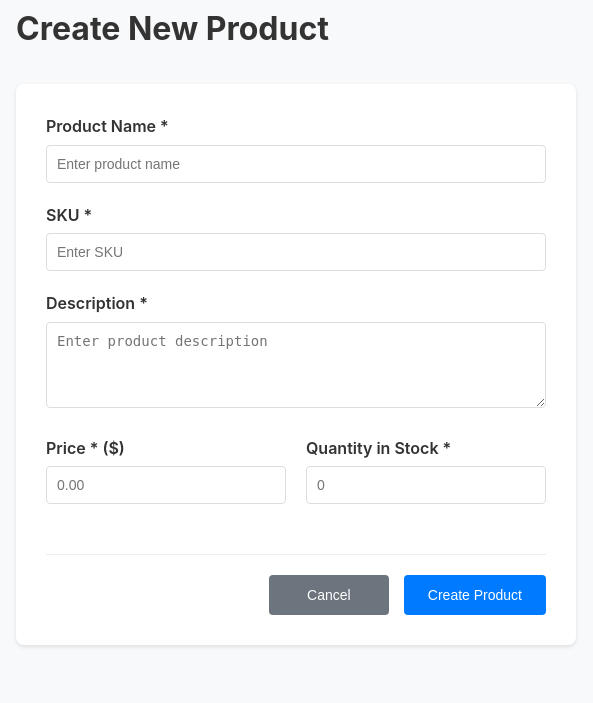
ProductForm › should clear validation errors when user starts typing
Note: Trigger validation errors first
Click the button with test id "submit-btn" at (475, 595), box [404,575,546,615]
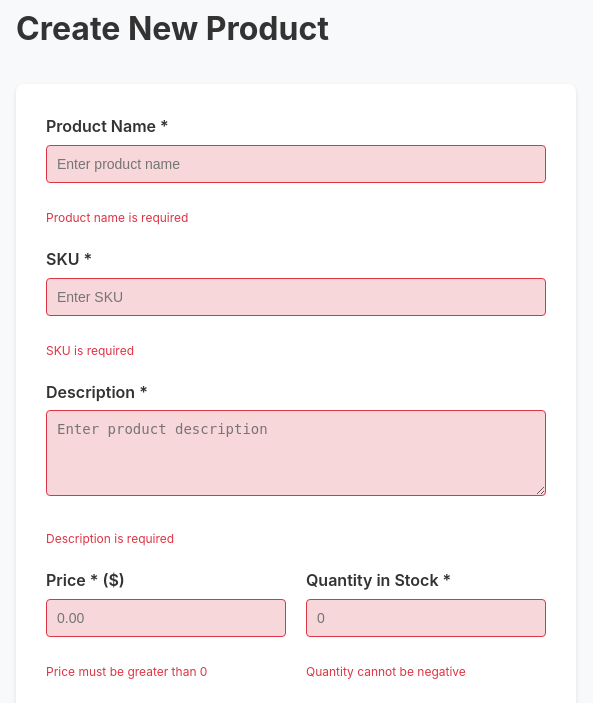
Expected: the text "Product name is required" is shown, [46,210,188,225]
Note: Start typing in name field
Type "Test" into the field with test id "product-name-input" at (296, 164), box [46,145,546,183]
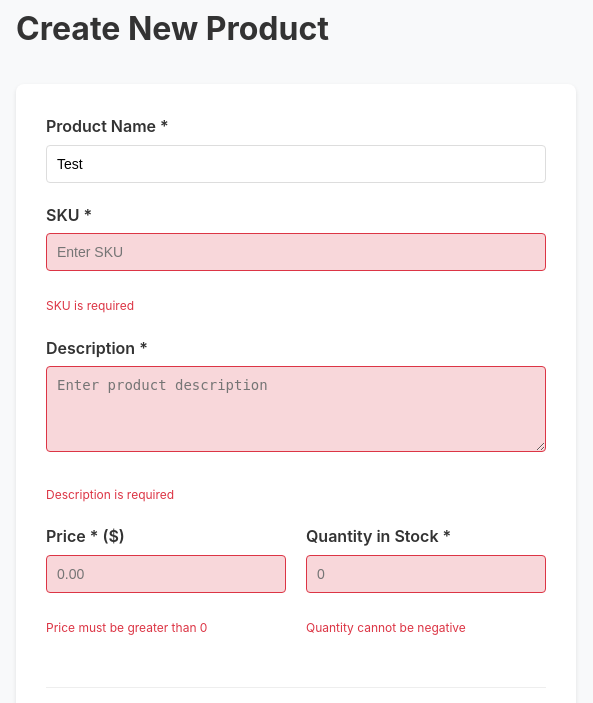
Expected: the text with test id "name-error" is gone
